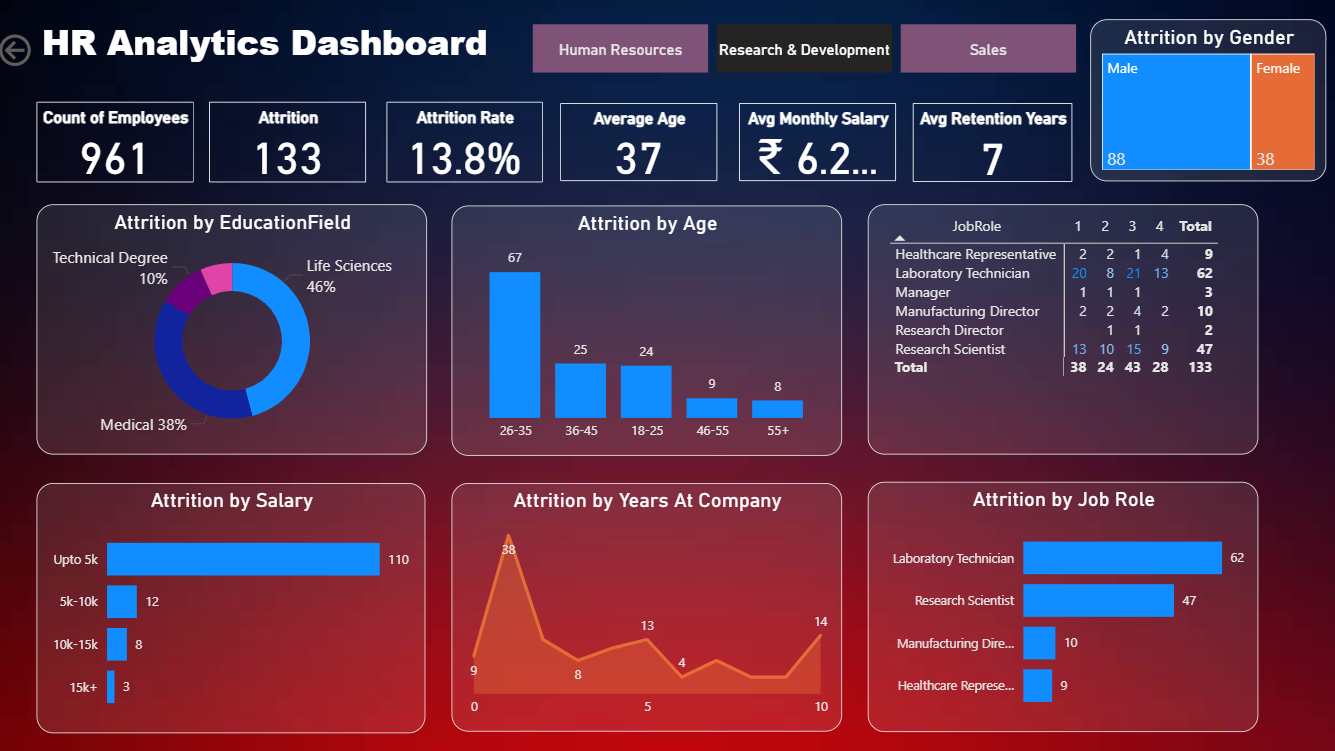

The page's visual inventory and layout, read from the dashboard file:
{"tool":"powerbi","page":{"name":"Page 1","canvas":[1280,720],"ordinal":0},"visuals":[{"type":"card","title":"Count of Employees","fields":{"Values":["CountNonNull(HR_Analytics.EmpID)"]},"box":[40.7,98.3,149.8,76.7],"z":0},{"type":"actionButton","box":[0,30,100,40],"z":1000},{"type":"card","title":"Attrition","fields":{"Values":["HR_Analytics.Count of AttritionValue for 1"]},"box":[204.9,98.3,149.8,76.7],"z":2000},{"type":"card","title":"Attrition Rate","fields":{"Values":["HR_Analytics.AttritionRate"]},"box":[373.9,98.3,148.6,76.7],"z":3000},{"type":"card","title":"Average Age","fields":{"Values":["Avg(HR_Analytics.Age)"]},"box":[539.3,99.5,149.8,74.3],"z":4000},{"type":"card","title":"Avg Retention Years","fields":{"Values":["Avg(HR_Analytics.YearsAtCompany)"]},"box":[874.9,99.5,152.2,75.5],"z":5000},{"type":"card","title":"Avg Monthly Salary","fields":{"Values":["Avg(HR_Analytics.MonthlyIncome)"]},"box":[709.5,99.5,149.8,74.3],"z":6000},{"type":"donutChart","title":"Attrition by EducationField","fields":{"Y":["CountNonNull(HR_Analytics.Attrition)"],"Category":["HR_Analytics.EducationField"]},"box":[40.4,195.9,372.2,238.1],"z":7000},{"type":"pivotTable","fields":{"Rows":["HR_Analytics.JobRole"],"Columns":["HR_Analytics.JobSatisfaction"],"Values":["HR_Analytics.Count of AttritionValue for 1"]},"box":[832.5,196.2,372.2,238.1],"z":8000},{"type":"barChart","title":"Attrition by Salary","fields":{"Category":["HR_Analytics.SalarySlab"],"Y":["HR_Analytics.Count of AttritionValue for 1"]},"box":[40.4,461.4,370.8,238.1],"z":9000},{"type":"barChart","title":"Attrition by Job Role","fields":{"Category":["HR_Analytics.JobRole"],"Y":["HR_Analytics.Count of AttritionValue for 1"]},"box":[832.5,460.2,372.2,238.1],"z":10000},{"type":"columnChart","title":"Attrition by Age","fields":{"Category":["HR_Analytics.AgeGroup"],"Y":["HR_Analytics.Count of AttritionValue for 1"]},"box":[435.7,197.7,372.2,238.1],"z":11000},{"type":"areaChart","title":"Attrition by Years At Company","fields":{"Category":["HR_Analytics.YearsAtCompany"],"Y":["HR_Analytics.Count of AttritionValue Count"]},"box":[435.7,461.7,372.2,236.6],"z":12000},{"type":"treemap","title":"Attrition by Gender","fields":{"Group":["HR_Analytics.Gender"],"Values":["HR_Analytics.Count of AttritionValue Count"]},"box":[1044.6,20.2,225.1,154.4],"z":13000},{"type":"advancedSlicerVisual","fields":{"Values":["HR_Analytics.Department"]},"box":[508.2,20.4,527.3,56.3],"z":14000},{"type":"textbox","box":[40.4,14.4,506.4,83.7],"z":15000}]}

Visuals, with their boxes in screenshot pixels (x1, y1, x2, y2), scaled from the page's 1280x720 canvas onto the 1335x751 screenshot:
"Count of Employees" card: box=[42, 103, 199, 183]
actionButton: box=[0, 31, 104, 73]
"Attrition" card: box=[214, 103, 370, 183]
"Attrition Rate" card: box=[390, 103, 545, 183]
"Average Age" card: box=[562, 104, 719, 181]
"Avg Retention Years" card: box=[912, 104, 1071, 183]
"Avg Monthly Salary" card: box=[740, 104, 896, 181]
"Attrition by EducationField" donutChart: box=[42, 204, 430, 453]
pivotTable - HR_Analytics.JobRole x HR_Analytics.JobSatisfaction: box=[868, 205, 1256, 453]
"Attrition by Salary" barChart: box=[42, 481, 429, 730]
"Attrition by Job Role" barChart: box=[868, 480, 1256, 728]
"Attrition by Age" columnChart: box=[454, 206, 843, 455]
"Attrition by Years At Company" areaChart: box=[454, 482, 843, 728]
"Attrition by Gender" treemap: box=[1089, 21, 1324, 182]
advancedSlicerVisual - HR_Analytics.Department: box=[530, 21, 1080, 80]
textbox: box=[42, 15, 570, 102]
